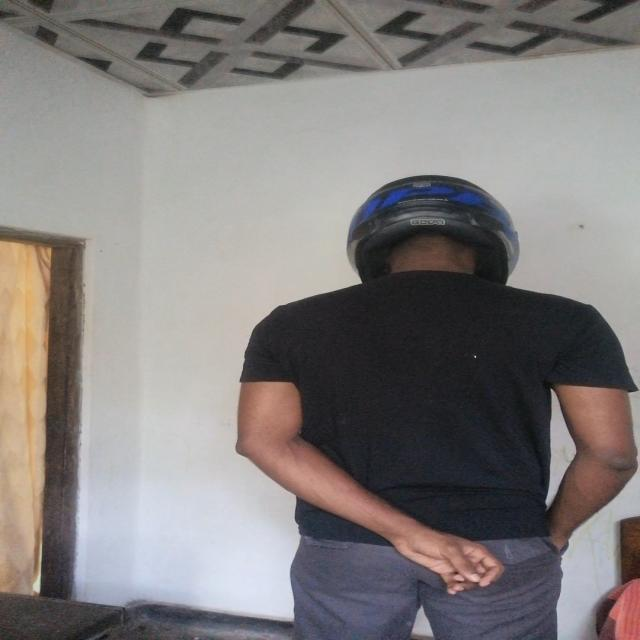Helmet_Wearer: (346, 175, 547, 306)
Person: (237, 181, 640, 640)
